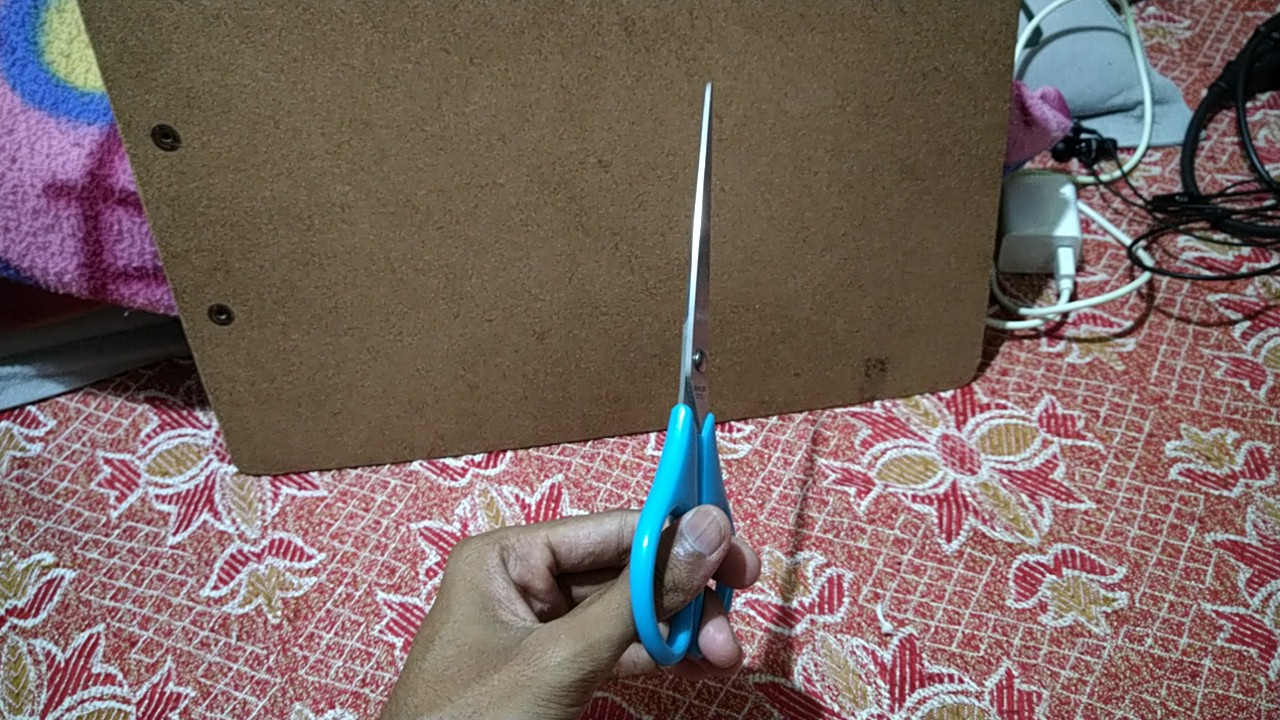scissor: (616, 72, 771, 679)
